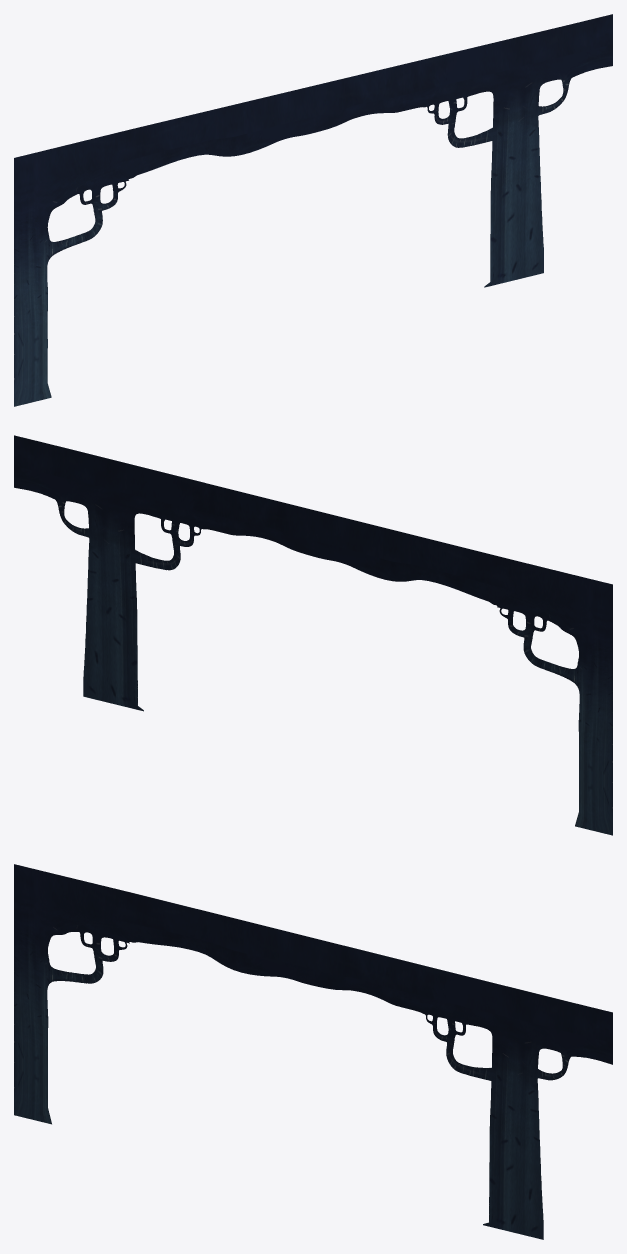
The model's file is Level_02_Arbres.fbx.
The picture shows the model from 3 angles, top to bottom: view 1: azimuth 30°, elevation 25°; view 2: azimuth 150°, elevation 25°; view 3: azimuth 330°, elevation 25°; orthographic projection.
Visible parts, largest first — view 1: Level_02_Arbres; view 2: Level_02_Arbres; view 3: Level_02_Arbres.
Boxes of the visible parts, <box> form: Level_02_Arbres: <box>14,14,612,406</box>; Level_02_Arbres: <box>14,435,612,835</box>; Level_02_Arbres: <box>14,864,612,1239</box>.
Size of the model in its own units: 45.3 by 18.09 by 0.3546.
